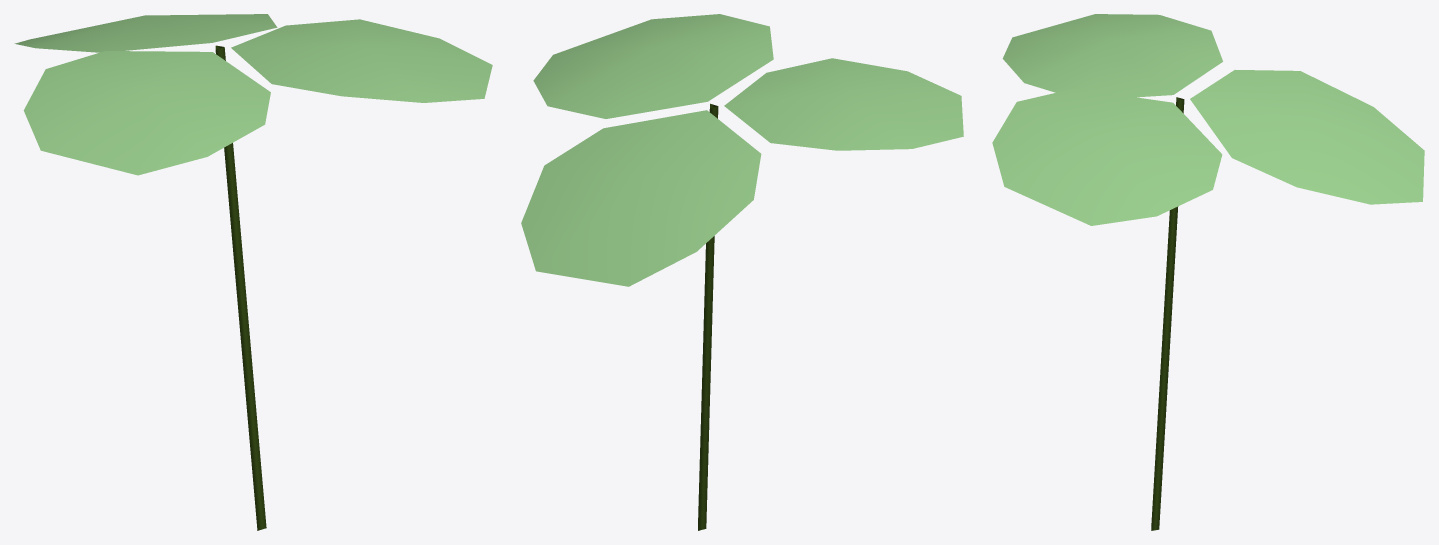
Rendered from CloverSingle_v02.fbx.
3 views of the same model, side by side, from view 1: azimuth 30°, elevation 25°; view 2: azimuth 150°, elevation 25°; view 3: azimuth 270°, elevation 25° (orthographic). The views are drawn at different scales.
Parts seen in each view (by area): view 1: CloverSingle_v02; view 2: CloverSingle_v02; view 3: CloverSingle_v02.
Part boxes in pixels (box(x1,y1,x2,y2)): CloverSingle_v02: box(14, 14, 492, 530); CloverSingle_v02: box(521, 14, 963, 530); CloverSingle_v02: box(992, 14, 1424, 530).
Size of the model in its own units: 17 by 17.73 by 16.14.
